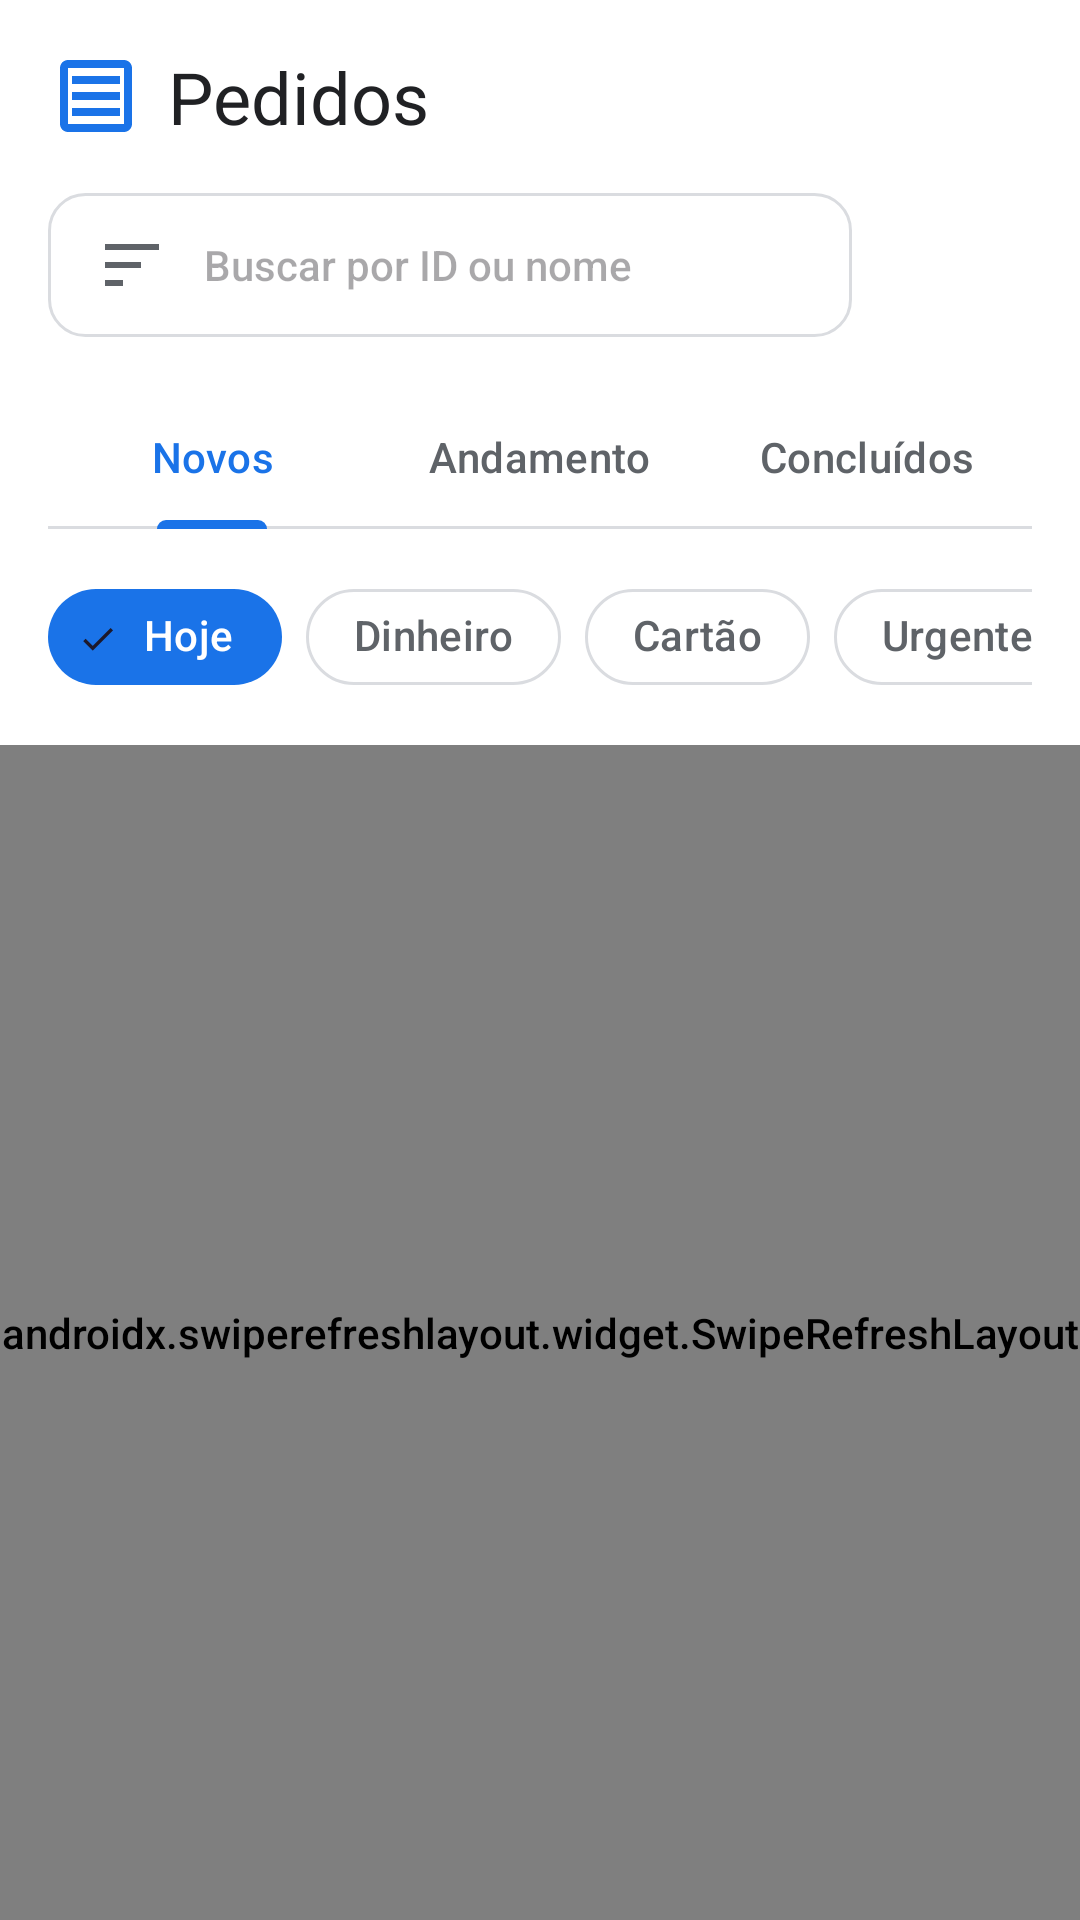

Point at icon controls on the screen. Image size 1080×1920, points as (x=x, y=y).
orders: (x=96, y=96)
